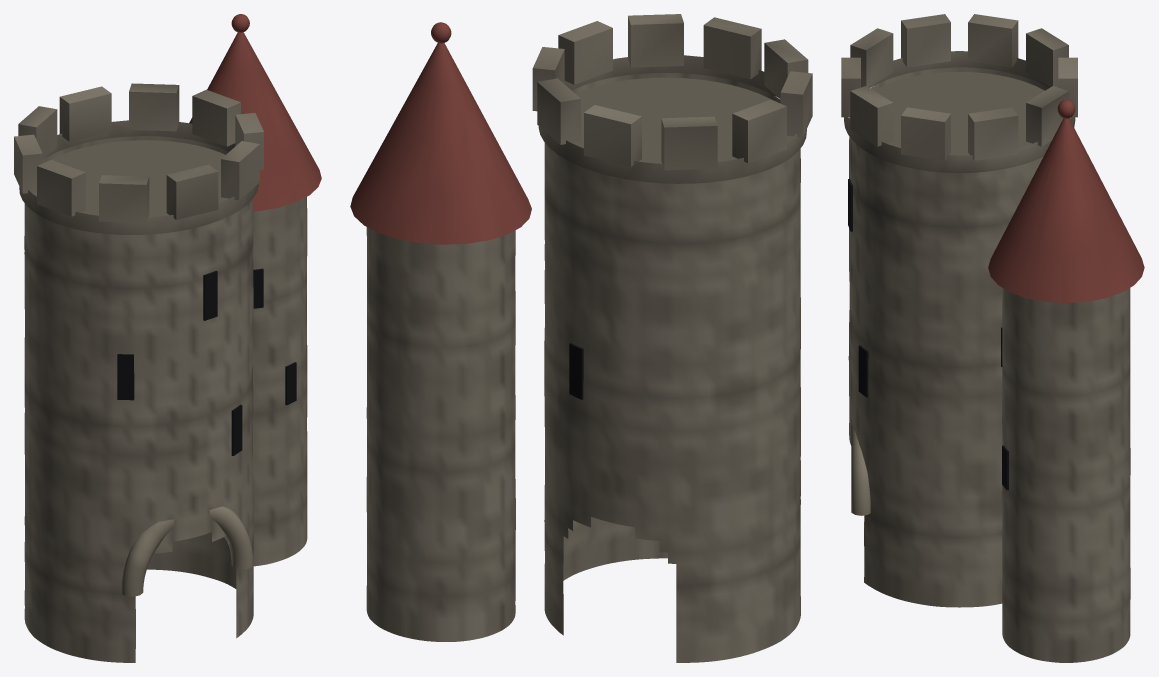
The model's file is castle.glb.
The picture shows the model from 3 angles, left to right: view 1: azimuth 30°, elevation 25°; view 2: azimuth 150°, elevation 25°; view 3: azimuth 270°, elevation 25°; orthographic projection. The views are drawn at different scales.
Parts seen in each view (by area): view 1: tower-main, battlements, tower-side, roof-cone, tower-floor, door-arch, windows; view 2: tower-main, tower-side, battlements, roof-cone, tower-floor, windows; view 3: tower-main, tower-side, battlements, roof-cone, tower-floor, door-arch, windows.
Part boxes in pixels (left/top/right/bottom): tower-main: left=24, top=136, right=253, bottom=662; battlements: left=14, top=83, right=263, bottom=234; tower-side: left=253, top=197, right=307, bottom=566; roof-cone: left=189, top=32, right=321, bottom=211; tower-floor: left=32, top=140, right=228, bottom=217; door-arch: left=121, top=506, right=253, bottom=596; windows: left=117, top=268, right=296, bottom=455; tower-main: left=544, top=73, right=800, bottom=662; tower-side: left=366, top=227, right=515, bottom=641; battlements: left=532, top=14, right=812, bottom=183; roof-cone: left=350, top=43, right=531, bottom=244; tower-floor: left=572, top=77, right=792, bottom=163; windows: left=569, top=343, right=583, bottom=399; tower-main: left=848, top=67, right=1069, bottom=607; tower-side: left=1002, top=288, right=1130, bottom=662; battlements: left=841, top=14, right=1077, bottom=173; roof-cone: left=988, top=118, right=1144, bottom=302; tower-floor: left=874, top=72, right=1044, bottom=155; door-arch: left=851, top=424, right=870, bottom=515; windows: left=848, top=179, right=1008, bottom=490.
Bounding box in the file's own units: 220 × 330 × 170.
